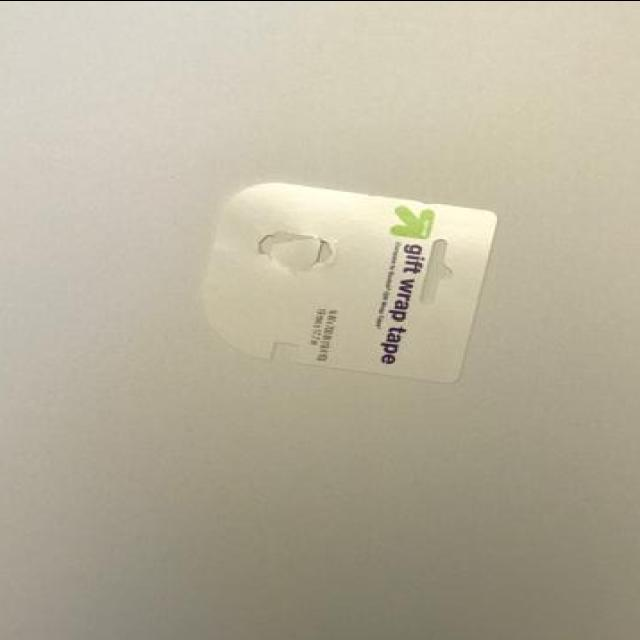kertas: (198, 179, 491, 385)
